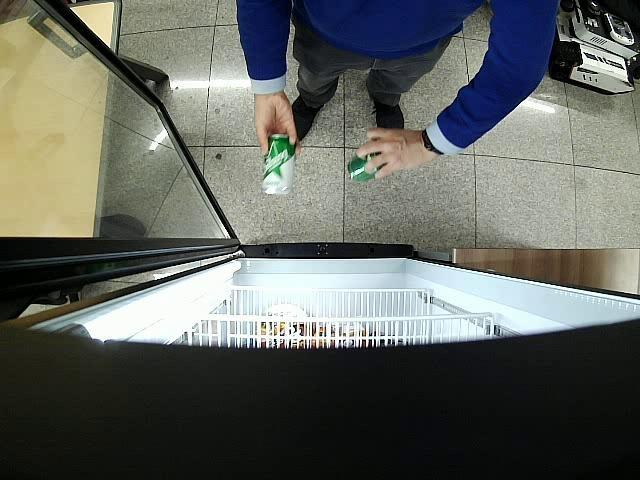12_chilsungCider: (262, 134, 296, 194), (347, 152, 388, 184)
